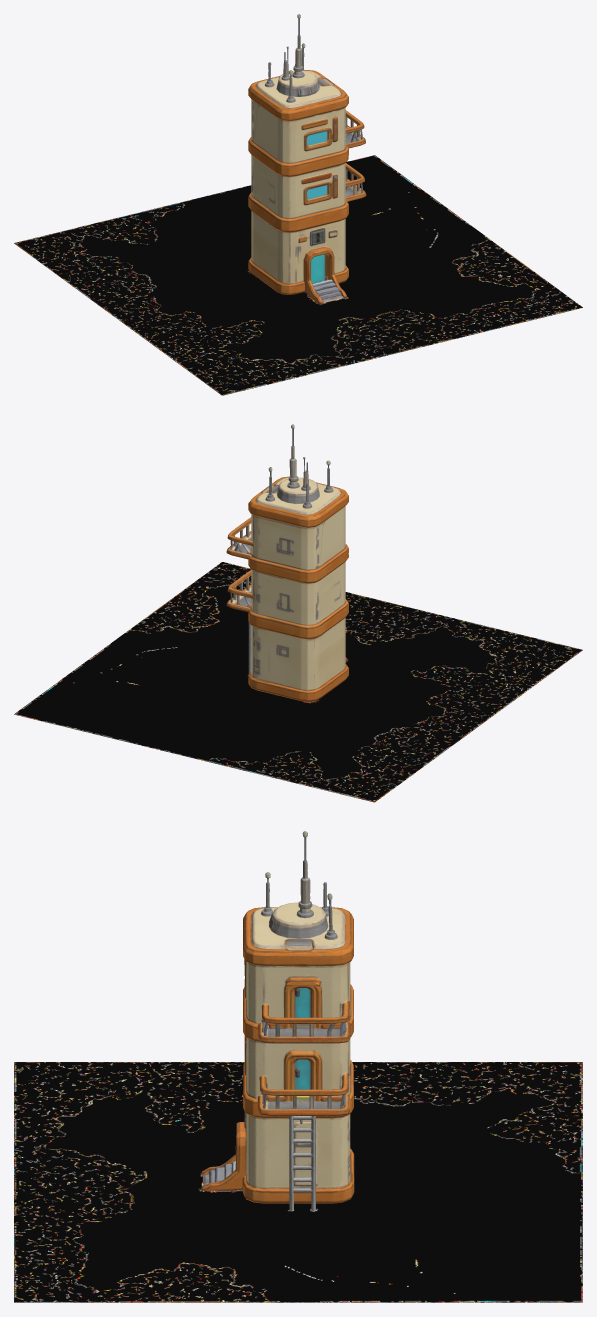
Rendered from zhiloy-bashnya.glb.
3 renders of one model, top to bottom at view 1: azimuth 30°, elevation 25°; view 2: azimuth 150°, elevation 25°; view 3: azimuth 270°, elevation 25°, orthographic. The views are drawn at different scales.
Visible parts, largest first — view 1: geometry_0; view 2: geometry_0; view 3: geometry_0.
Part boxes in pixels (<box>): geometry_0: <box>14,14,582,395</box>; geometry_0: <box>14,424,582,802</box>; geometry_0: <box>14,831,582,1302</box>.
Bounding box in the file's own units: 0.9935 × 0.6875 × 0.9935.
1 material, 1 textured.
